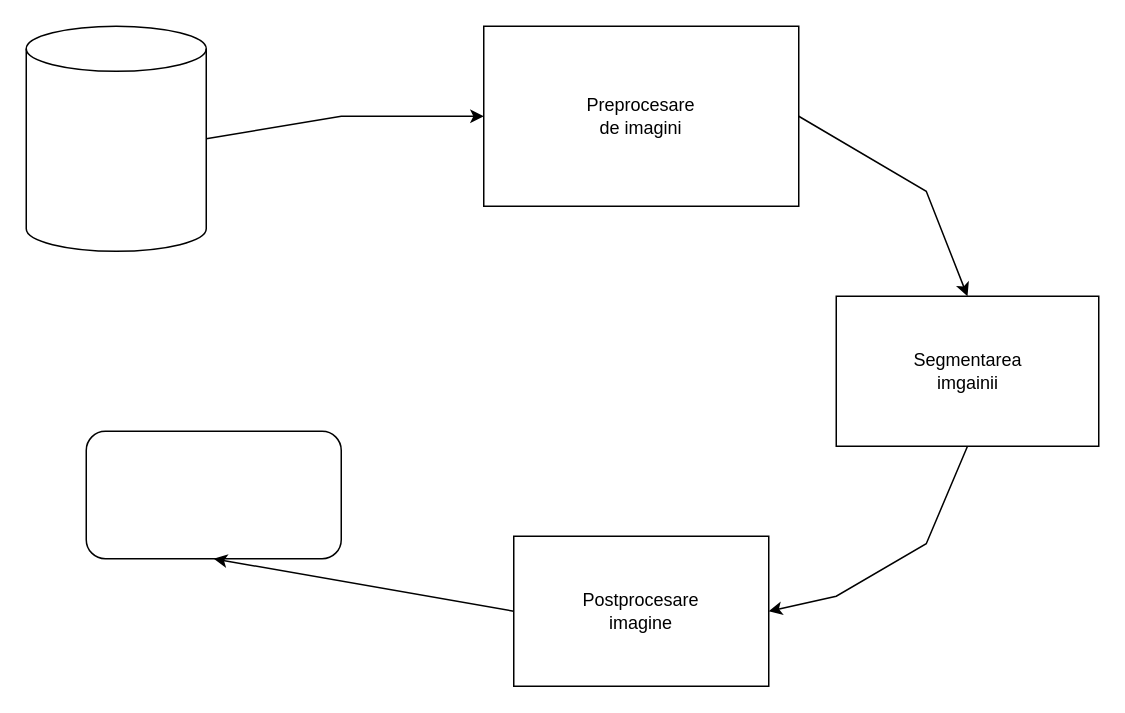
This 1125x713 diagram has some shape labels left out. The shapes that lost their labels are listed below. From the top down, each one's centre as x and y in pixels, then its label:
At (115,138): "Datele de intrare".
At (213,494): "Interpretare rezultate și afișare".
